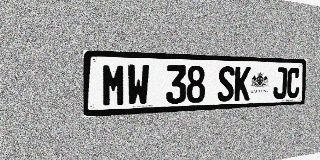3: (166, 65, 186, 104)
8: (186, 65, 206, 103)
C: (286, 67, 300, 99)
J: (273, 67, 287, 99)
K: (234, 66, 251, 101)
M: (102, 63, 126, 107)
S: (217, 66, 235, 102)
W: (127, 64, 150, 106)
